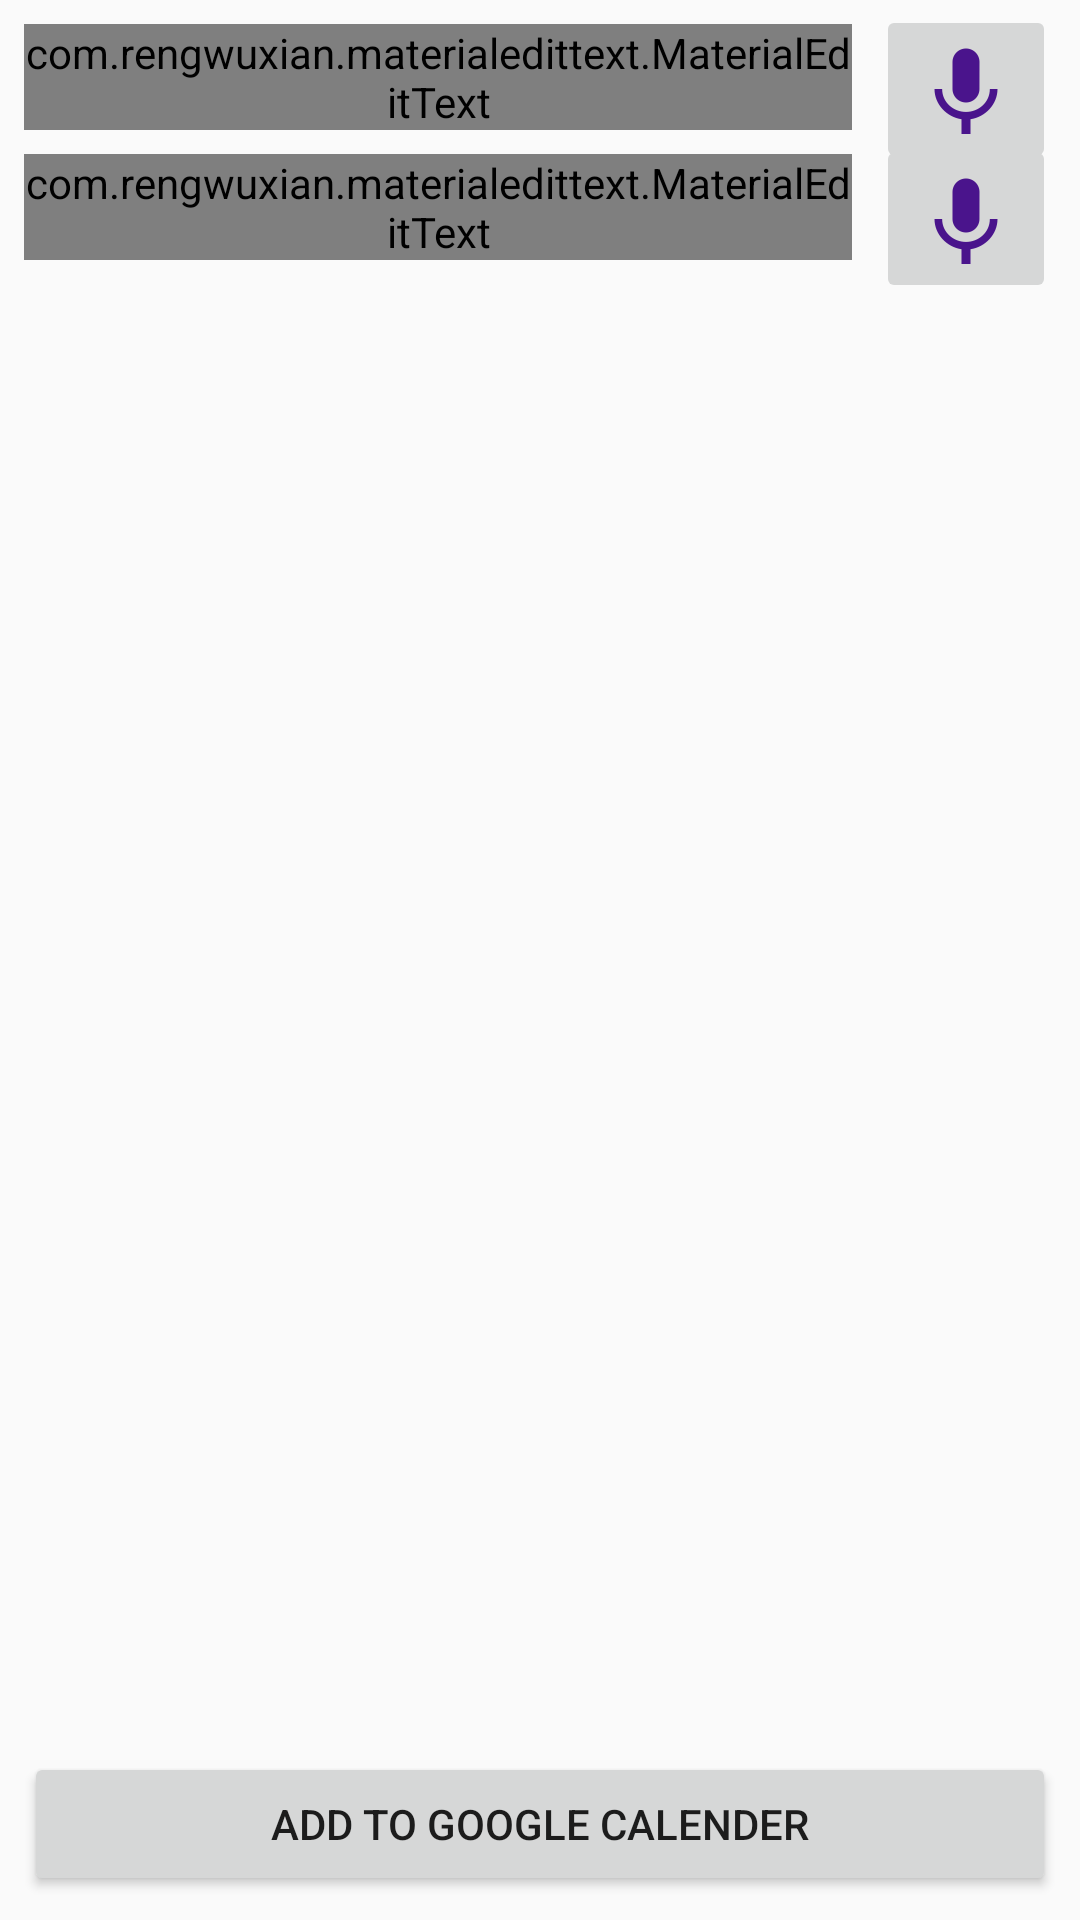

Screen size 1080*1920. Icon name, then its center in pixels as (x=x, y=y):
keyboard voice: (x=966, y=98), (x=966, y=210)
